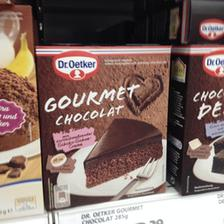Kuchen: (34, 42, 172, 210), (170, 43, 222, 195)
